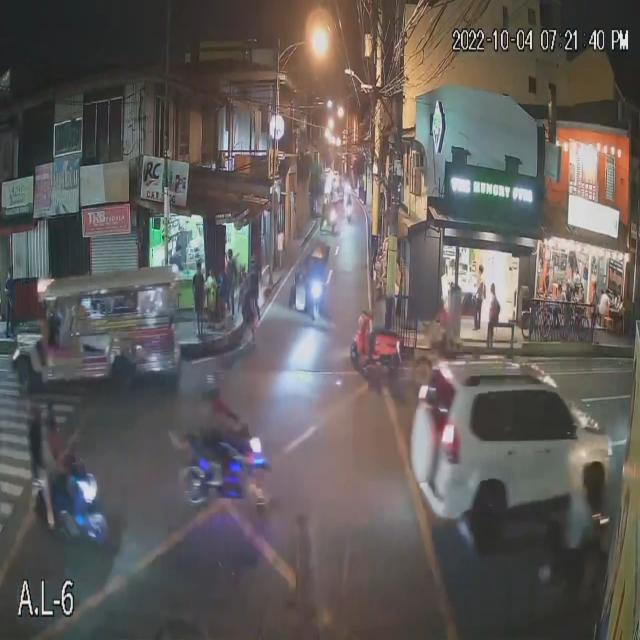Full-Faced: (201, 374, 219, 405), (28, 400, 46, 428), (44, 404, 60, 432)
